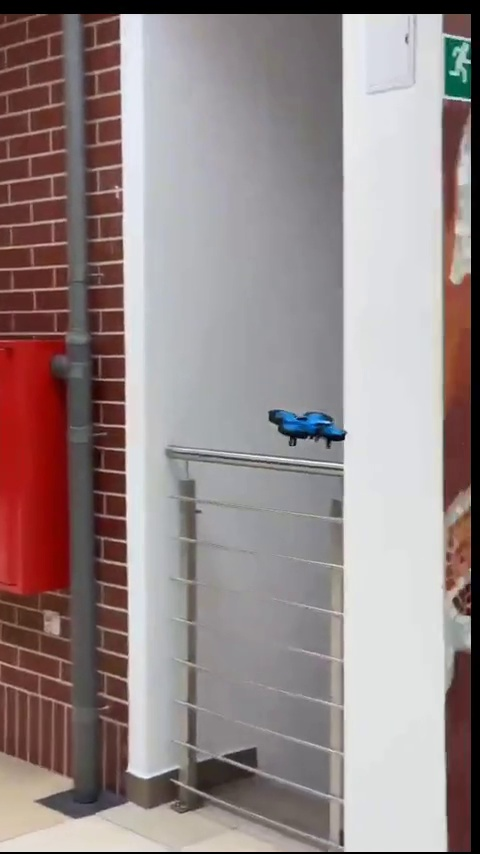drone: (273, 408, 348, 445)
